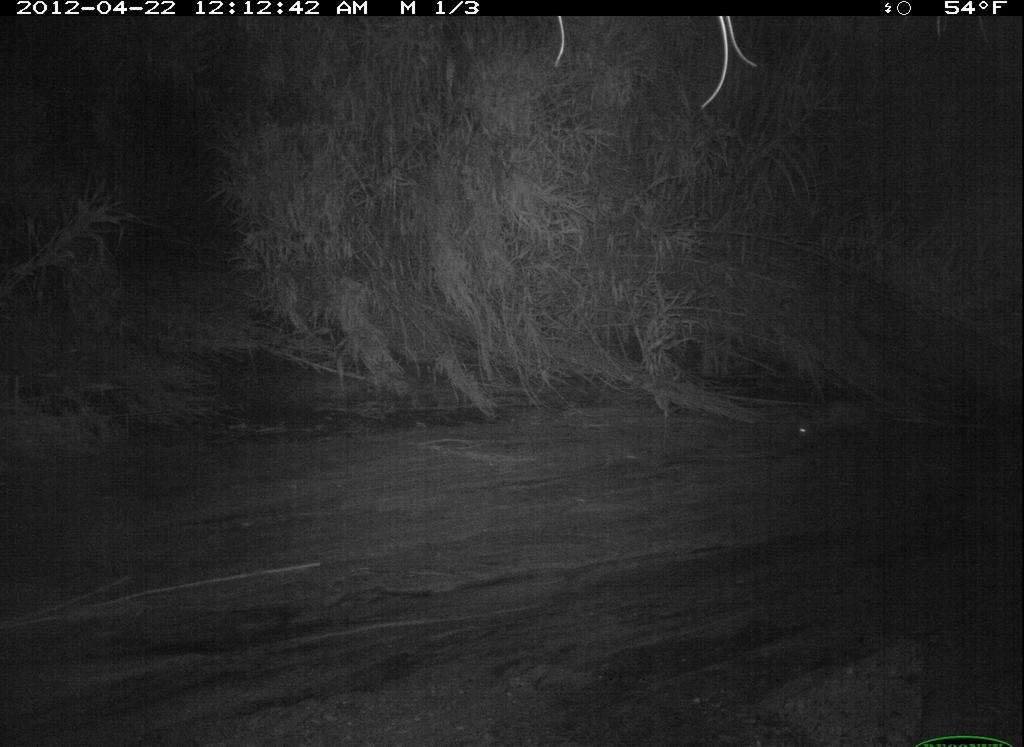opossum: (780, 386, 900, 463)
